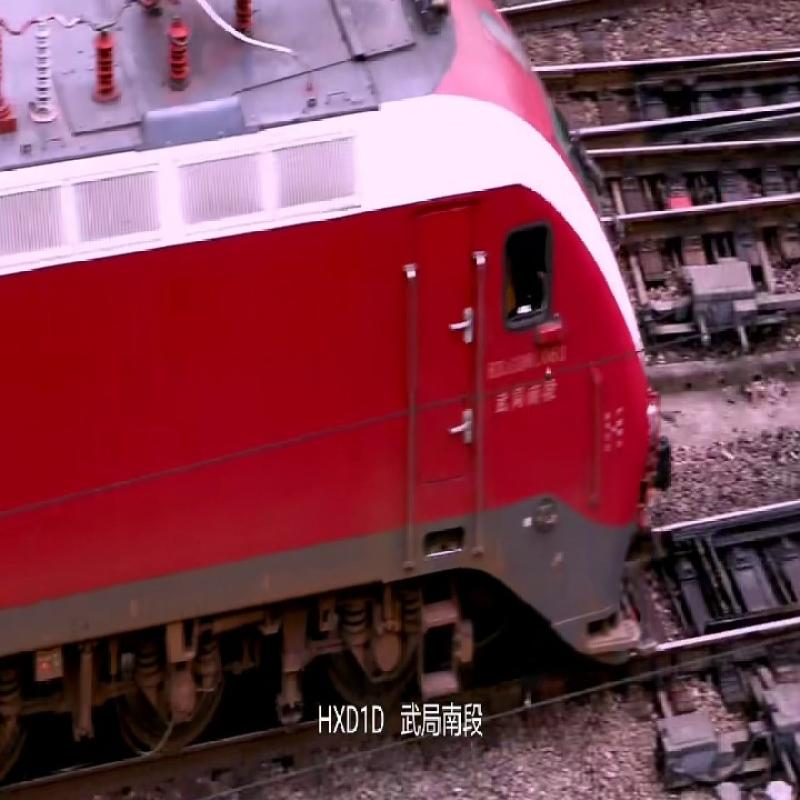train: (22, 43, 654, 651), (20, 41, 652, 649)
